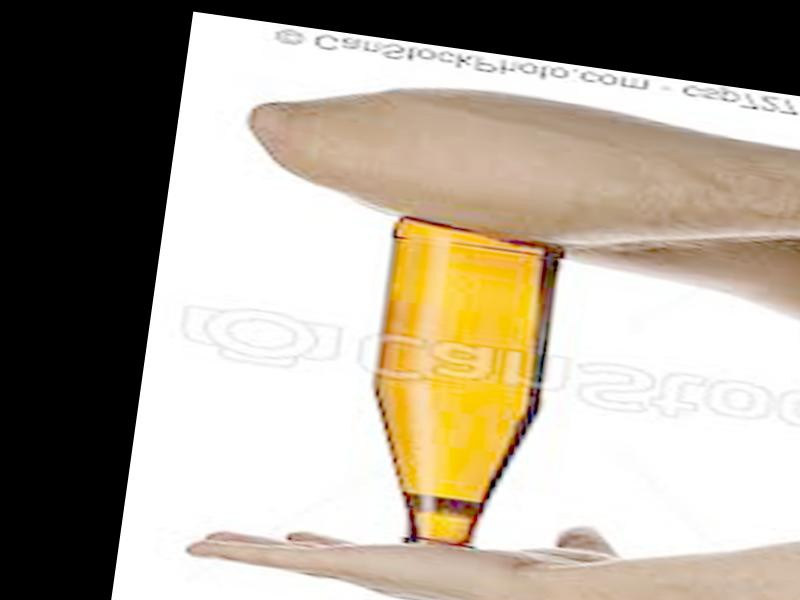Beer: (345, 219, 571, 564)
